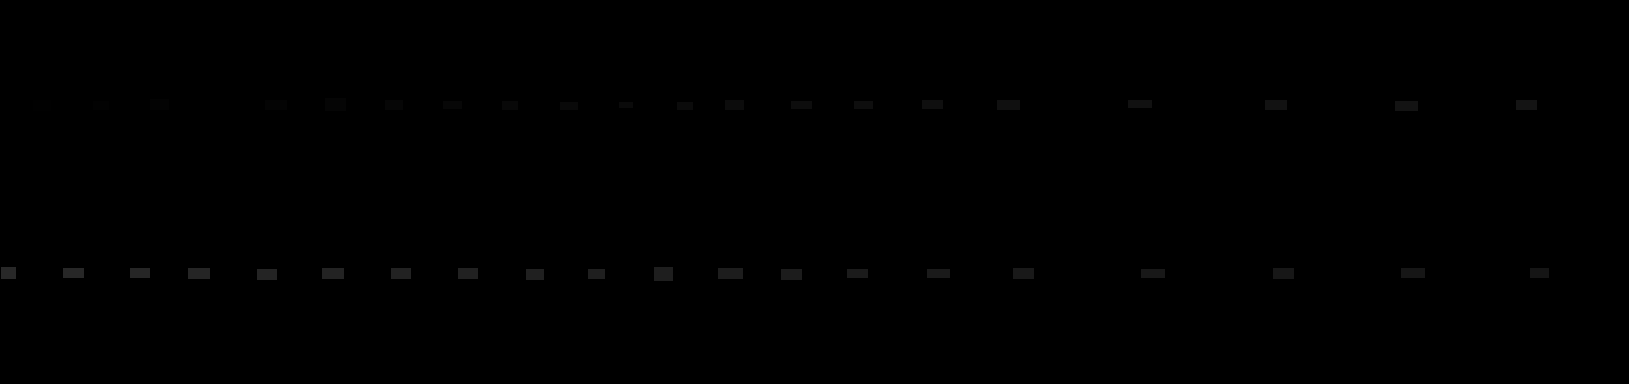light: (718, 268, 743, 279), (325, 98, 346, 111), (655, 267, 673, 281), (1273, 268, 1294, 279), (322, 268, 344, 279), (188, 268, 210, 279), (1401, 268, 1425, 278), (997, 100, 1020, 110), (1395, 101, 1418, 111), (1013, 268, 1034, 279), (781, 269, 802, 280), (391, 268, 411, 279), (257, 269, 277, 280), (265, 100, 287, 110), (1265, 100, 1287, 110), (150, 99, 169, 110), (458, 268, 478, 279), (1141, 269, 1165, 278), (1516, 100, 1537, 110), (63, 268, 84, 278), (927, 269, 950, 278), (526, 269, 544, 280), (130, 268, 150, 278), (922, 100, 943, 109), (33, 100, 51, 111), (1128, 100, 1152, 108), (725, 100, 744, 110), (1530, 268, 1549, 278), (847, 269, 867, 278), (385, 100, 403, 110), (791, 101, 812, 109), (1, 267, 16, 279), (588, 269, 605, 279), (443, 101, 462, 109), (502, 101, 518, 110), (854, 101, 873, 109), (560, 102, 578, 110), (94, 101, 109, 110), (677, 102, 693, 110), (619, 102, 633, 108)
